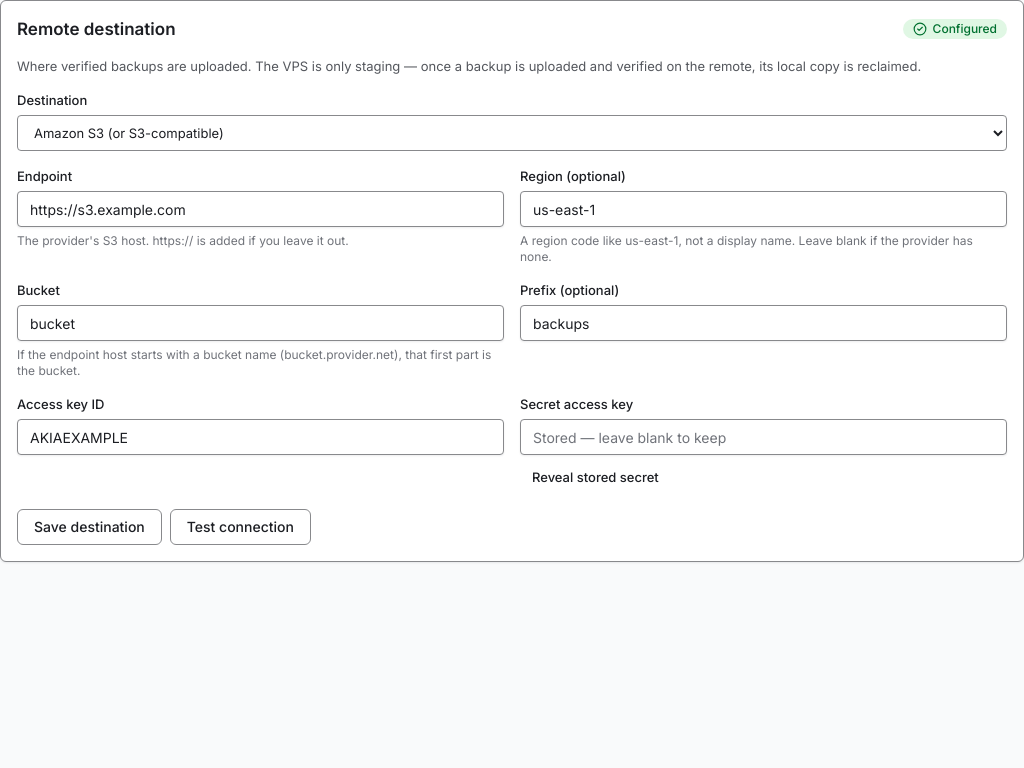
Test: RemoteDestinationCard › never renders the stored secret; reveals it only through the audited action
This screenshot has width=1024, height=768.
Expected: the text "Configured" is shown, [933,21,997,37]
Expected: the password field labelled "Secret access key" is empty, [520,419,1007,455]
Click the button "Reveal stored secret". click: [595, 477]
box: [520,461,671,493]
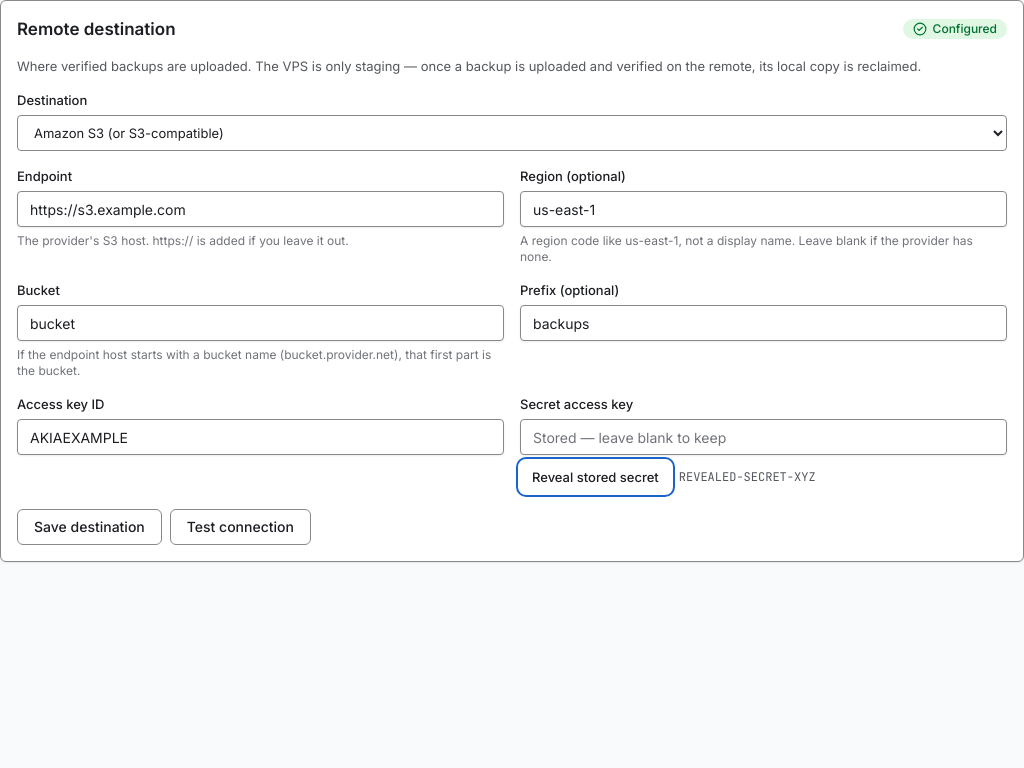
Expected: the text "REVEALED-SECRET-XYZ" is shown, [679,468,816,486]
